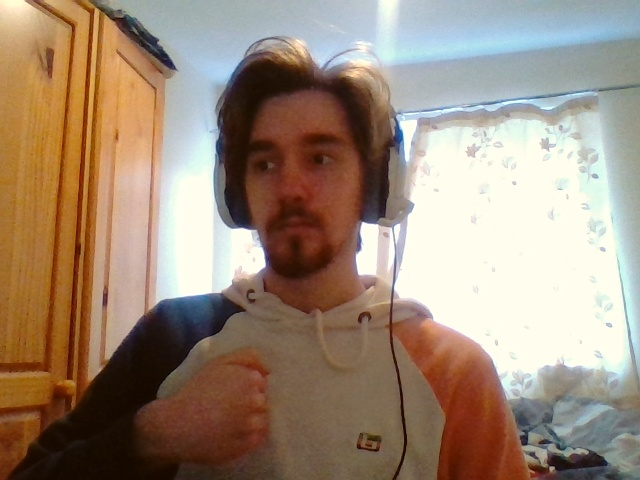morning: (178, 349, 270, 459)
